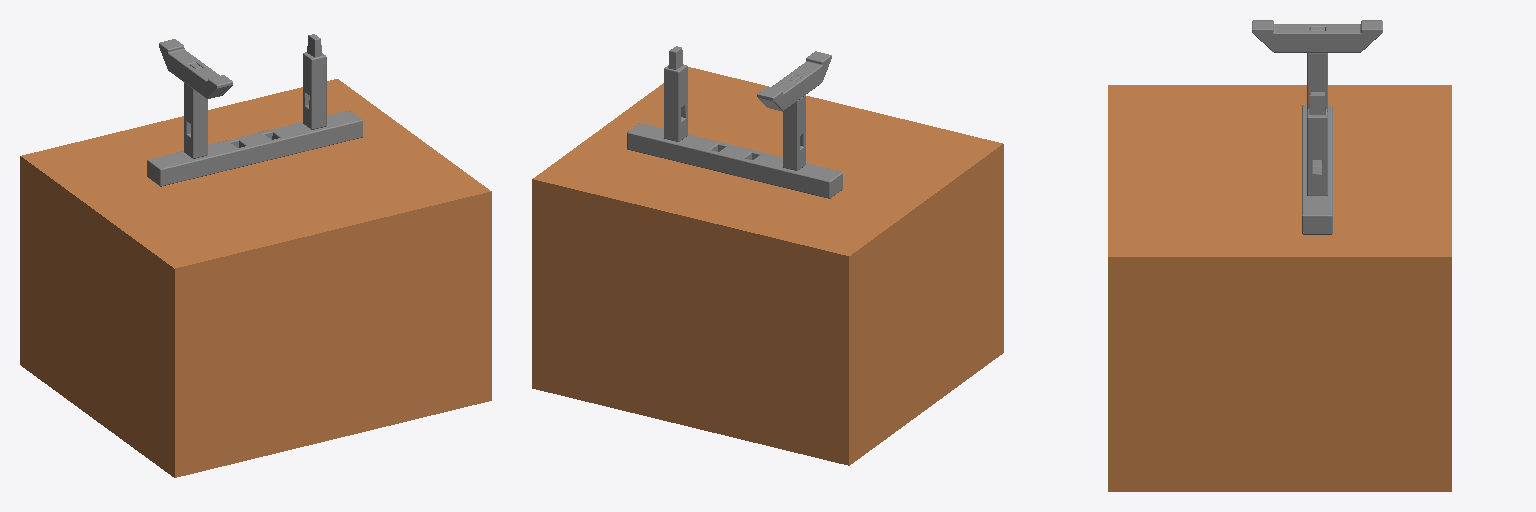
URDF robot description (table_beam_2x_1_scene_0038):
<?xml version="1.0"?>
<robot name="table_beam_2x_1_scene_0038">
  <link name="box">
    <visual>
      <material name="wood"><color rgba="0.82 0.56 0.35 1.0"/></material>
      <origin xyz="0 0 0"/>
      <geometry><box size="0.475 0.4 0.3"/></geometry>
    </visual>
    <collision>
      <origin xyz="0 0 0"/>
      <geometry><box size="0.475 0.4 0.3"/></geometry>
    </collision>
    <inertial>
      <mass value="500"/>
      <friction value="1.0"/>
      <inertia ixx="1000.0" ixy="0.0" ixz="0.0" iyy="1000.0" iyz="0.0" izz="1000.0"/>
    </inertial>
  </link>
  <link name="part_6_canonical">
    <visual>
      <origin xyz="0 0 0" rpy="0 0 0"/>
      <geometry><mesh filename="../../6/6_canonical.obj" scale="1 1 1"/></geometry>
      <material name="placed_0"><color rgba="0.6 0.6 0.6 1.0"/></material>
    </visual>
    <collision>
      <origin xyz="0 0 0" rpy="0 0 0"/>
      <geometry><mesh filename="../../6/6_canonical.obj" scale="1 1 1"/></geometry>
    </collision>
  </link>
  <joint name="part_6_canonical_joint" type="fixed">
    <parent link="box"/>
    <child link="part_6_canonical"/>
    <origin xyz="0.024058 0.043483 0.162666" rpy="0.000000 0.000000 0.000000"/>
  </joint>
  <link name="part_2_canonical">
    <visual>
      <origin xyz="0 0 0" rpy="0 0 0"/>
      <geometry><mesh filename="../../2/2_canonical.obj" scale="1 1 1"/></geometry>
      <material name="placed_1"><color rgba="0.6 0.6 0.6 1.0"/></material>
    </visual>
    <collision>
      <origin xyz="0 0 0" rpy="0 0 0"/>
      <geometry><mesh filename="../../2/2_canonical.obj" scale="1 1 1"/></geometry>
    </collision>
  </link>
  <joint name="part_2_canonical_joint" type="fixed">
    <parent link="box"/>
    <child link="part_2_canonical"/>
    <origin xyz="-0.064869 0.043483 0.225384" rpy="0.000000 -1.570796 0.000000"/>
  </joint>
  <link name="part_0_canonical">
    <visual>
      <origin xyz="0 0 0" rpy="0 0 0"/>
      <geometry><mesh filename="../../0/0_canonical.obj" scale="1 1 1"/></geometry>
      <material name="placed_2"><color rgba="0.6 0.6 0.6 1.0"/></material>
    </visual>
    <collision>
      <origin xyz="0 0 0" rpy="0 0 0"/>
      <geometry><mesh filename="../../0/0_canonical.obj" scale="1 1 1"/></geometry>
    </collision>
  </link>
  <joint name="part_0_canonical_joint" type="fixed">
    <parent link="box"/>
    <child link="part_0_canonical"/>
    <origin xyz="-0.064842 0.043483 0.292243" rpy="1.570796 0.000000 -1.570796"/>
  </joint>
  <link name="part_3_hull_0">
    <visual>
      <origin xyz="0 0 0" rpy="0 0 0"/>
      <geometry><mesh filename="../../3/coacd/decomp_0.obj" scale="1 1 1"/></geometry>
      <material name="placed_3"><color rgba="0.6 0.6 0.6 1.0"/></material>
    </visual>
    <collision>
      <origin xyz="0 0 0" rpy="0 0 0"/>
      <geometry><mesh filename="../../3/coacd/decomp_0.obj" scale="1 1 1"/></geometry>
    </collision>
  </link>
  <joint name="part_3_hull_0_joint" type="fixed">
    <parent link="box"/>
    <child link="part_3_hull_0"/>
    <origin xyz="0.112985 0.043483 0.225384" rpy="0.000000 -1.570796 0.000000"/>
  </joint>
  <link name="part_3_hull_1">
    <visual>
      <origin xyz="0 0 0" rpy="0 0 0"/>
      <geometry><mesh filename="../../3/coacd/decomp_1.obj" scale="1 1 1"/></geometry>
      <material name="placed_4"><color rgba="0.6 0.6 0.6 1.0"/></material>
    </visual>
    <collision>
      <origin xyz="0 0 0" rpy="0 0 0"/>
      <geometry><mesh filename="../../3/coacd/decomp_1.obj" scale="1 1 1"/></geometry>
    </collision>
  </link>
  <joint name="part_3_hull_1_joint" type="fixed">
    <parent link="box"/>
    <child link="part_3_hull_1"/>
    <origin xyz="0.112985 0.043483 0.225384" rpy="0.000000 -1.570796 0.000000"/>
  </joint>
  <link name="part_3_hull_2">
    <visual>
      <origin xyz="0 0 0" rpy="0 0 0"/>
      <geometry><mesh filename="../../3/coacd/decomp_10.obj" scale="1 1 1"/></geometry>
      <material name="placed_5"><color rgba="0.6 0.6 0.6 1.0"/></material>
    </visual>
    <collision>
      <origin xyz="0 0 0" rpy="0 0 0"/>
      <geometry><mesh filename="../../3/coacd/decomp_10.obj" scale="1 1 1"/></geometry>
    </collision>
  </link>
  <joint name="part_3_hull_2_joint" type="fixed">
    <parent link="box"/>
    <child link="part_3_hull_2"/>
    <origin xyz="0.112985 0.043483 0.225384" rpy="0.000000 -1.570796 0.000000"/>
  </joint>
  <link name="part_3_hull_3">
    <visual>
      <origin xyz="0 0 0" rpy="0 0 0"/>
      <geometry><mesh filename="../../3/coacd/decomp_11.obj" scale="1 1 1"/></geometry>
      <material name="placed_6"><color rgba="0.6 0.6 0.6 1.0"/></material>
    </visual>
    <collision>
      <origin xyz="0 0 0" rpy="0 0 0"/>
      <geometry><mesh filename="../../3/coacd/decomp_11.obj" scale="1 1 1"/></geometry>
    </collision>
  </link>
  <joint name="part_3_hull_3_joint" type="fixed">
    <parent link="box"/>
    <child link="part_3_hull_3"/>
    <origin xyz="0.112985 0.043483 0.225384" rpy="0.000000 -1.570796 0.000000"/>
  </joint>
  <link name="part_3_hull_4">
    <visual>
      <origin xyz="0 0 0" rpy="0 0 0"/>
      <geometry><mesh filename="../../3/coacd/decomp_12.obj" scale="1 1 1"/></geometry>
      <material name="placed_7"><color rgba="0.6 0.6 0.6 1.0"/></material>
    </visual>
    <collision>
      <origin xyz="0 0 0" rpy="0 0 0"/>
      <geometry><mesh filename="../../3/coacd/decomp_12.obj" scale="1 1 1"/></geometry>
    </collision>
  </link>
  <joint name="part_3_hull_4_joint" type="fixed">
    <parent link="box"/>
    <child link="part_3_hull_4"/>
    <origin xyz="0.112985 0.043483 0.225384" rpy="0.000000 -1.570796 0.000000"/>
  </joint>
  <link name="part_3_hull_5">
    <visual>
      <origin xyz="0 0 0" rpy="0 0 0"/>
      <geometry><mesh filename="../../3/coacd/decomp_2.obj" scale="1 1 1"/></geometry>
      <material name="placed_8"><color rgba="0.6 0.6 0.6 1.0"/></material>
    </visual>
    <collision>
      <origin xyz="0 0 0" rpy="0 0 0"/>
      <geometry><mesh filename="../../3/coacd/decomp_2.obj" scale="1 1 1"/></geometry>
    </collision>
  </link>
  <joint name="part_3_hull_5_joint" type="fixed">
    <parent link="box"/>
    <child link="part_3_hull_5"/>
    <origin xyz="0.112985 0.043483 0.225384" rpy="0.000000 -1.570796 0.000000"/>
  </joint>
  <link name="part_3_hull_6">
    <visual>
      <origin xyz="0 0 0" rpy="0 0 0"/>
      <geometry><mesh filename="../../3/coacd/decomp_3.obj" scale="1 1 1"/></geometry>
      <material name="placed_9"><color rgba="0.6 0.6 0.6 1.0"/></material>
    </visual>
    <collision>
      <origin xyz="0 0 0" rpy="0 0 0"/>
      <geometry><mesh filename="../../3/coacd/decomp_3.obj" scale="1 1 1"/></geometry>
    </collision>
  </link>
  <joint name="part_3_hull_6_joint" type="fixed">
    <parent link="box"/>
    <child link="part_3_hull_6"/>
    <origin xyz="0.112985 0.043483 0.225384" rpy="0.000000 -1.570796 0.000000"/>
  </joint>
  <link name="part_3_hull_7">
    <visual>
      <origin xyz="0 0 0" rpy="0 0 0"/>
      <geometry><mesh filename="../../3/coacd/decomp_4.obj" scale="1 1 1"/></geometry>
      <material name="placed_10"><color rgba="0.6 0.6 0.6 1.0"/></material>
    </visual>
    <collision>
      <origin xyz="0 0 0" rpy="0 0 0"/>
      <geometry><mesh filename="../../3/coacd/decomp_4.obj" scale="1 1 1"/></geometry>
    </collision>
  </link>
  <joint name="part_3_hull_7_joint" type="fixed">
    <parent link="box"/>
    <child link="part_3_hull_7"/>
    <origin xyz="0.112985 0.043483 0.225384" rpy="0.000000 -1.570796 0.000000"/>
  </joint>
  <link name="part_3_hull_8">
    <visual>
      <origin xyz="0 0 0" rpy="0 0 0"/>
      <geometry><mesh filename="../../3/coacd/decomp_5.obj" scale="1 1 1"/></geometry>
      <material name="placed_11"><color rgba="0.6 0.6 0.6 1.0"/></material>
    </visual>
    <collision>
      <origin xyz="0 0 0" rpy="0 0 0"/>
      <geometry><mesh filename="../../3/coacd/decomp_5.obj" scale="1 1 1"/></geometry>
    </collision>
  </link>
  <joint name="part_3_hull_8_joint" type="fixed">
    <parent link="box"/>
    <child link="part_3_hull_8"/>
    <origin xyz="0.112985 0.043483 0.225384" rpy="0.000000 -1.570796 0.000000"/>
  </joint>
  <link name="part_3_hull_9">
    <visual>
      <origin xyz="0 0 0" rpy="0 0 0"/>
      <geometry><mesh filename="../../3/coacd/decomp_6.obj" scale="1 1 1"/></geometry>
      <material name="placed_12"><color rgba="0.6 0.6 0.6 1.0"/></material>
    </visual>
    <collision>
      <origin xyz="0 0 0" rpy="0 0 0"/>
      <geometry><mesh filename="../../3/coacd/decomp_6.obj" scale="1 1 1"/></geometry>
    </collision>
  </link>
  <joint name="part_3_hull_9_joint" type="fixed">
    <parent link="box"/>
    <child link="part_3_hull_9"/>
    <origin xyz="0.112985 0.043483 0.225384" rpy="0.000000 -1.570796 0.000000"/>
  </joint>
  <link name="part_3_hull_10">
    <visual>
      <origin xyz="0 0 0" rpy="0 0 0"/>
      <geometry><mesh filename="../../3/coacd/decomp_7.obj" scale="1 1 1"/></geometry>
      <material name="placed_13"><color rgba="0.6 0.6 0.6 1.0"/></material>
    </visual>
    <collision>
      <origin xyz="0 0 0" rpy="0 0 0"/>
      <geometry><mesh filename="../../3/coacd/decomp_7.obj" scale="1 1 1"/></geometry>
    </collision>
  </link>
  <joint name="part_3_hull_10_joint" type="fixed">
    <parent link="box"/>
    <child link="part_3_hull_10"/>
    <origin xyz="0.112985 0.043483 0.225384" rpy="0.000000 -1.570796 0.000000"/>
  </joint>
  <link name="part_3_hull_11">
    <visual>
      <origin xyz="0 0 0" rpy="0 0 0"/>
      <geometry><mesh filename="../../3/coacd/decomp_8.obj" scale="1 1 1"/></geometry>
      <material name="placed_14"><color rgba="0.6 0.6 0.6 1.0"/></material>
    </visual>
    <collision>
      <origin xyz="0 0 0" rpy="0 0 0"/>
      <geometry><mesh filename="../../3/coacd/decomp_8.obj" scale="1 1 1"/></geometry>
    </collision>
  </link>
  <joint name="part_3_hull_11_joint" type="fixed">
    <parent link="box"/>
    <child link="part_3_hull_11"/>
    <origin xyz="0.112985 0.043483 0.225384" rpy="0.000000 -1.570796 0.000000"/>
  </joint>
  <link name="part_3_hull_12">
    <visual>
      <origin xyz="0 0 0" rpy="0 0 0"/>
      <geometry><mesh filename="../../3/coacd/decomp_9.obj" scale="1 1 1"/></geometry>
      <material name="placed_15"><color rgba="0.6 0.6 0.6 1.0"/></material>
    </visual>
    <collision>
      <origin xyz="0 0 0" rpy="0 0 0"/>
      <geometry><mesh filename="../../3/coacd/decomp_9.obj" scale="1 1 1"/></geometry>
    </collision>
  </link>
  <joint name="part_3_hull_12_joint" type="fixed">
    <parent link="box"/>
    <child link="part_3_hull_12"/>
    <origin xyz="0.112985 0.043483 0.225384" rpy="0.000000 -1.570796 0.000000"/>
  </joint>
</robot>

--- Facts derived from the render (not from the file) ---
The picture shows the robot from 3 angles, left to right: view 1: azimuth 30°, elevation 25°; view 2: azimuth 150°, elevation 25°; view 3: azimuth 270°, elevation 25°; orthographic projection.
Model table_beam_2x_1_scene_0038 with 17 links and 16 joints (16 fixed), rooted at box, posed every joint at zero.
Links seen in each view (by area): view 1: box, part_6_canonical, part_0_canonical, part_2_canonical, part_3_hull_7; view 2: box, part_6_canonical, part_0_canonical, part_2_canonical, part_3_hull_11; view 3: box, part_0_canonical, part_6_canonical, part_2_canonical, part_3_hull_0.
Link boxes in pixels (x1,y1,x2,y2): box: [20, 79, 491, 477]; part_6_canonical: [147, 110, 362, 186]; part_0_canonical: [159, 39, 232, 98]; part_2_canonical: [184, 63, 207, 158]; part_3_hull_7: [315, 56, 322, 128]; box: [532, 67, 1003, 465]; part_6_canonical: [627, 123, 842, 198]; part_0_canonical: [757, 51, 831, 111]; part_2_canonical: [783, 75, 805, 170]; part_3_hull_11: [667, 68, 675, 140]; box: [1108, 85, 1451, 491]; part_0_canonical: [1252, 20, 1382, 52]; part_6_canonical: [1302, 105, 1332, 234]; part_2_canonical: [1307, 27, 1327, 109]; part_3_hull_0: [1307, 115, 1327, 159].
Bounding box of the posed robot: 0.475 × 0.4 × 0.4575 m (x, y, z).
16 mesh visuals loaded from 16 distinct referenced files (16 OBJ).
